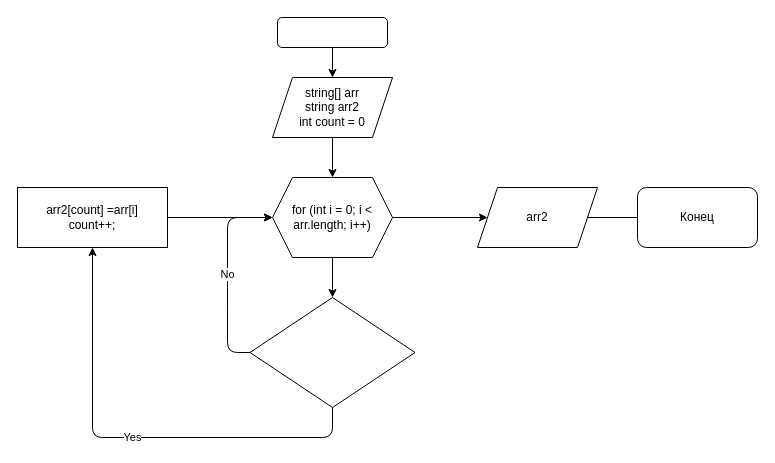
The diagram is 775 pixels wide and 463 high, and some of its shapes have lost their labels. The centre of each missing label's shape, as x and y in pixels:
if (arr[i].length <= 3): point 332,352
Начало: point 332,32
